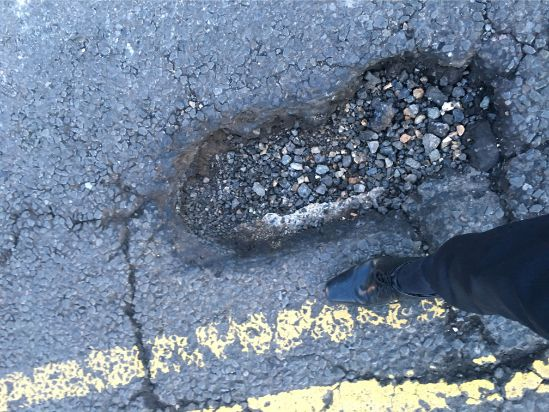pothole: (166, 45, 510, 249)
